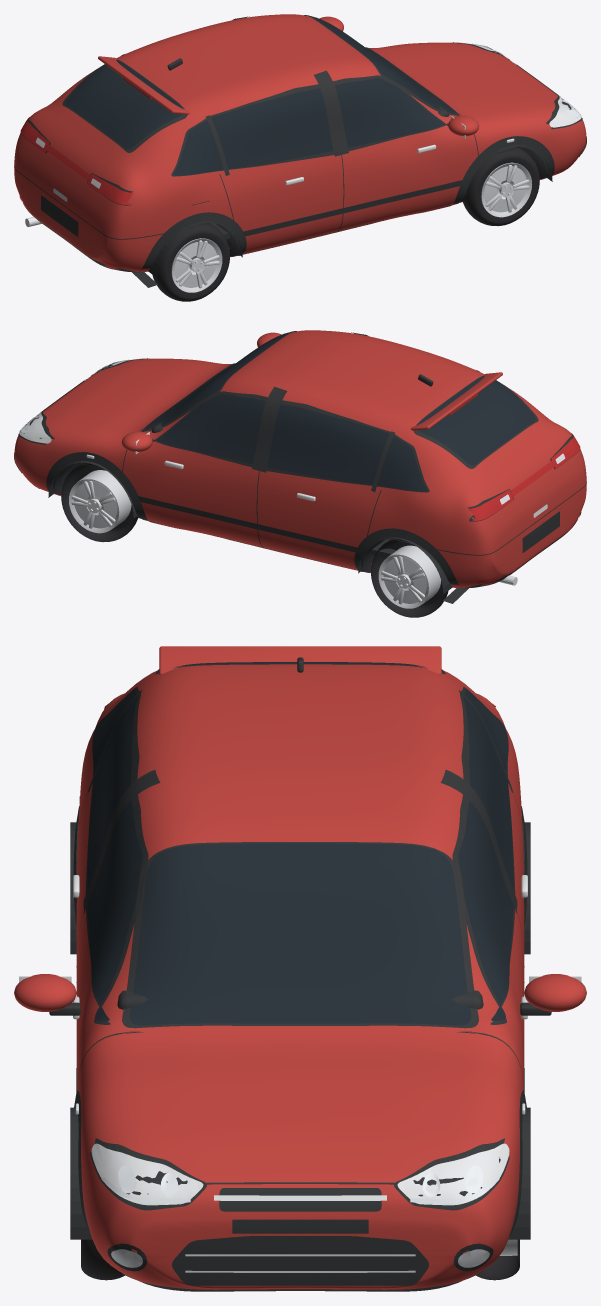
Rendered from lutece.glb.
3 renders of one model, top to bottom at view 1: azimuth 30°, elevation 25°; view 2: azimuth 150°, elevation 25°; view 3: azimuth 270°, elevation 25°, orthographic. The views are drawn at different scales.
Parts seen in each view (by area): view 1: Body, Glass-1, RearGlass, WheelRR, WheelFR, ArchTrim-1.001, WinFrame-1, Windshield, ArchTrim-1, Rub-1, Bpillar-1, TailLamp (+8 smaller); view 2: Body, Glass1, RearGlass, WheelFL, WheelRL, ArchTrim1.001, WinFrame1, Windshield, ArchTrim1, Rub1, Bpillar1, TailLamp (+8 smaller); view 3: Body, Windshield, Glass1, Glass-1, Intake, HeadReflector, Spoiler, WsFrame, GrilleUpper, HeadBezel, PlateF, WinFrame-1 (+14 smaller).
Part boxes in pixels (box(x1,y1,x2,y2)): Body: box(14, 14, 586, 271); Glass-1: box(174, 78, 448, 175); RearGlass: box(65, 60, 182, 149); WheelRR: box(152, 223, 229, 301); WheelFR: box(463, 146, 539, 226); ArchTrim-1.001: box(132, 212, 246, 287); WinFrame-1: box(171, 75, 446, 176); Windshield: box(305, 15, 456, 113); ArchTrim-1: box(453, 136, 554, 204); Rub-1: box(243, 180, 462, 236); Bpillar-1: box(313, 70, 348, 156); TailLamp: box(20, 118, 133, 205); Body: box(14, 330, 586, 587); Glass1: box(152, 394, 426, 491); RearGlass: box(418, 376, 535, 465); WheelFL: box(61, 462, 137, 542); WheelRL: box(371, 539, 448, 617); ArchTrim1.001: box(354, 528, 468, 603); WinFrame1: box(154, 391, 429, 492); Windshield: box(144, 331, 295, 429); ArchTrim1: box(46, 452, 147, 520); Rub1: box(138, 496, 357, 552); Bpillar1: box(252, 386, 287, 472); TailLamp: box(467, 434, 580, 521); Body: box(76, 664, 524, 1289); Windshield: box(129, 843, 471, 1025); Glass1: box(458, 689, 513, 1020); Glass-1: box(87, 689, 142, 1020); Intake: box(172, 1236, 428, 1285); HeadReflector: box(91, 1143, 509, 1205); Spoiler: box(159, 646, 441, 674); WsFrame: box(122, 842, 478, 1028); GrilleUpper: box(219, 1188, 381, 1211); HeadBezel: box(90, 1138, 509, 1210); PlateF: box(232, 1219, 368, 1233); WinFrame-1: box(85, 687, 148, 1024).
Size of the model in its own units: 4.06 by 1.54 by 2.19.
